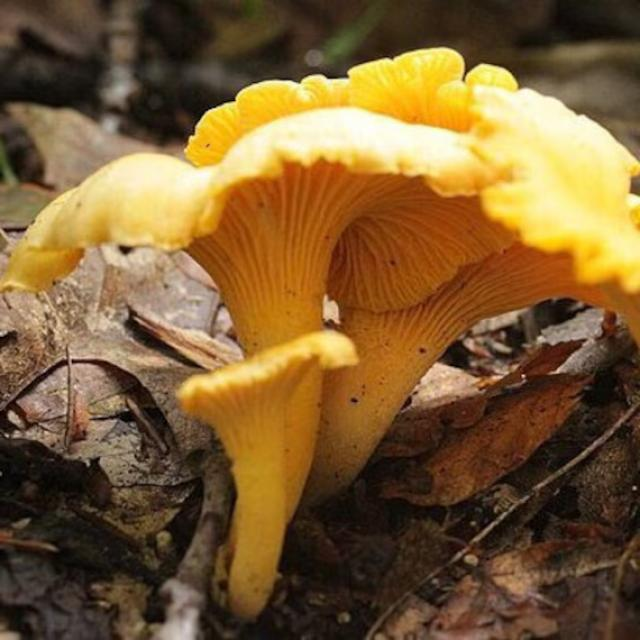chanterelle: (6, 105, 515, 360), (183, 334, 352, 620)
